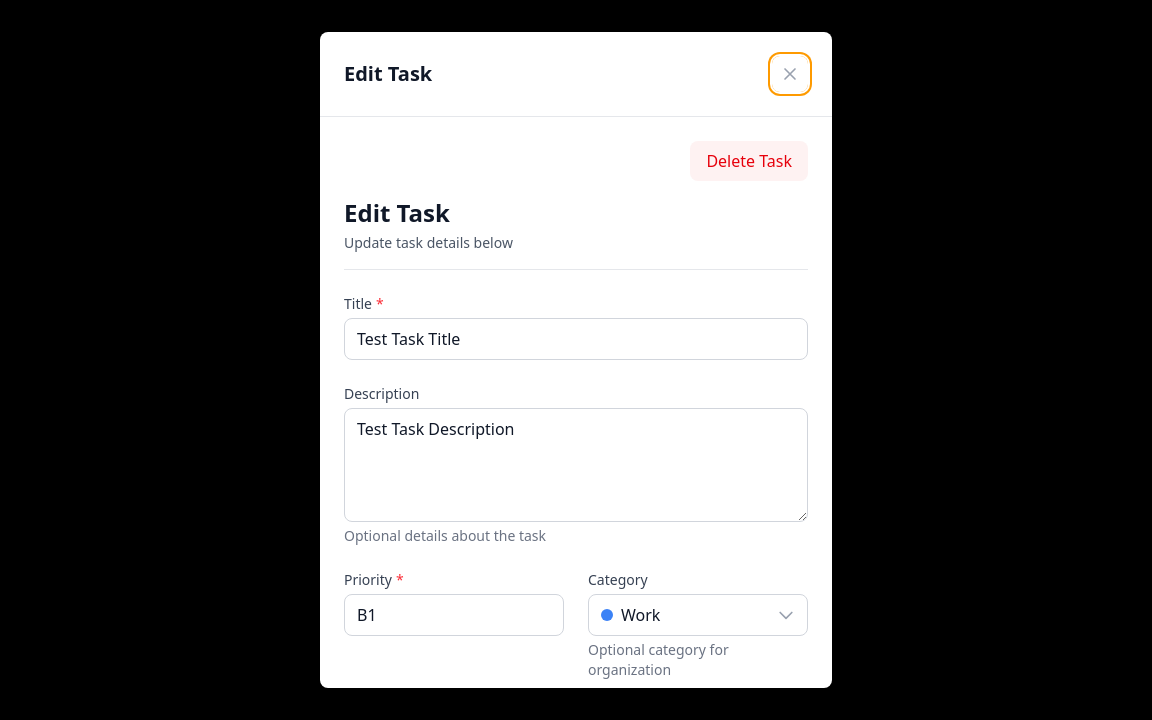
Test: EditTaskModal - Delete Functionality › should open ConfirmDialog when delete button is clicked
Click the button with test id "delete-task-button" at (749, 161), box top-left (690, 141), bottom-right (808, 181)
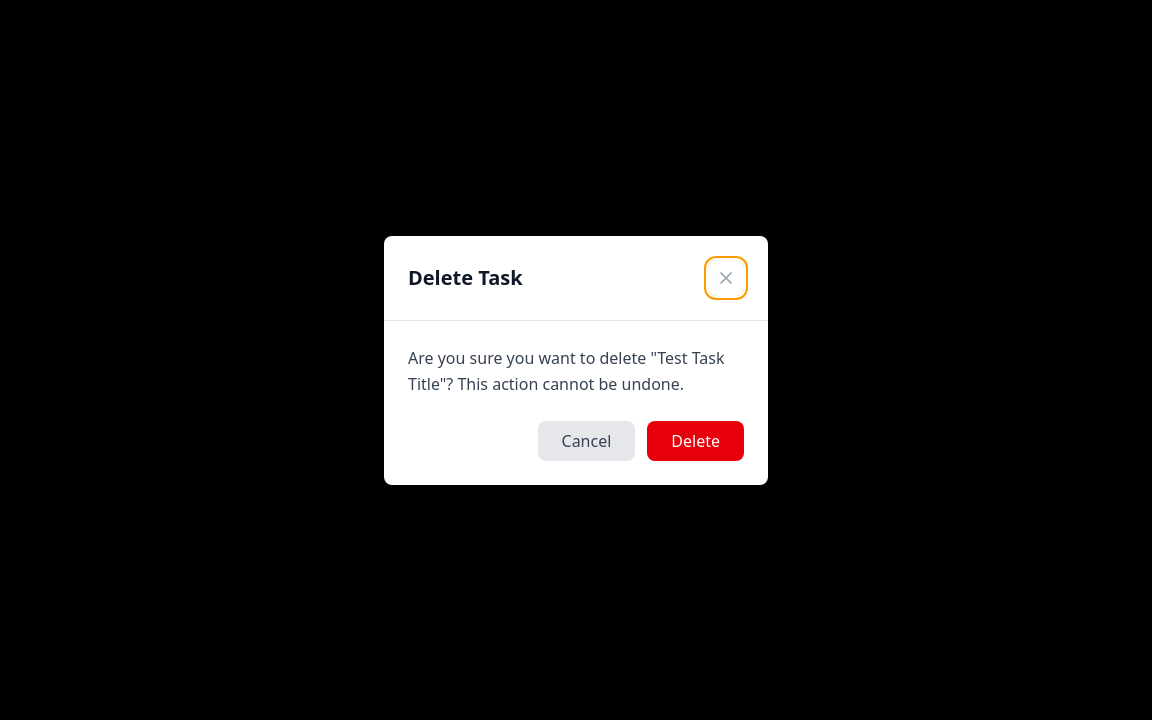
Result: the dialog with test id "delete-task-confirm-dialog" is shown
Result: the dialog with test id "delete-task-confirm-dialog" shows "Delete Task" at top-left (408, 264), bottom-right (523, 290)
Result: the text "Are you sure you want to delete" is shown at top-left (408, 346), bottom-right (724, 394)
